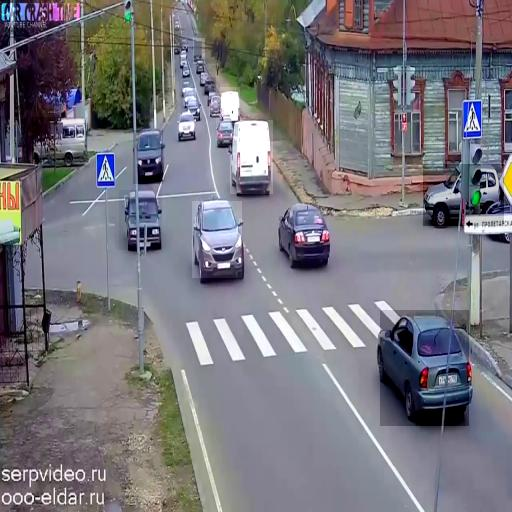小汽车: (380, 310, 469, 426), (423, 164, 504, 226), (192, 201, 242, 278), (280, 201, 329, 270), (230, 120, 273, 194), (119, 190, 162, 250), (32, 117, 88, 162), (133, 130, 163, 184), (216, 117, 236, 146), (220, 87, 240, 116), (178, 113, 196, 142), (210, 93, 224, 117), (193, 38, 205, 64), (202, 77, 216, 96), (184, 88, 196, 106), (179, 56, 189, 68)
